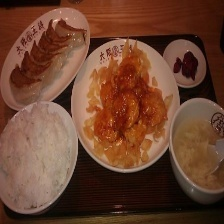rice: (0, 101, 78, 211)
